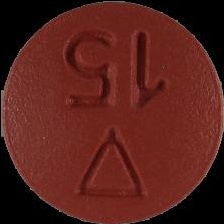69189-0578: (0, 0, 224, 224)
